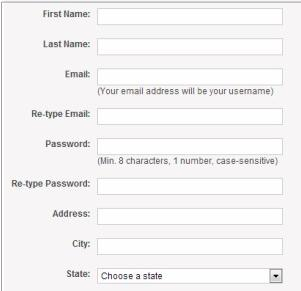field: (94, 67, 283, 87), (93, 107, 284, 126), (94, 177, 284, 196), (93, 38, 284, 56), (94, 137, 284, 155), (95, 7, 284, 25), (94, 237, 282, 255), (96, 267, 284, 285), (93, 208, 283, 225)
field_with_label: (11, 174, 285, 197), (31, 105, 286, 127), (43, 36, 286, 57), (64, 65, 284, 88), (46, 135, 286, 156), (42, 6, 286, 26), (72, 235, 284, 257), (53, 206, 285, 226), (67, 265, 286, 286)
